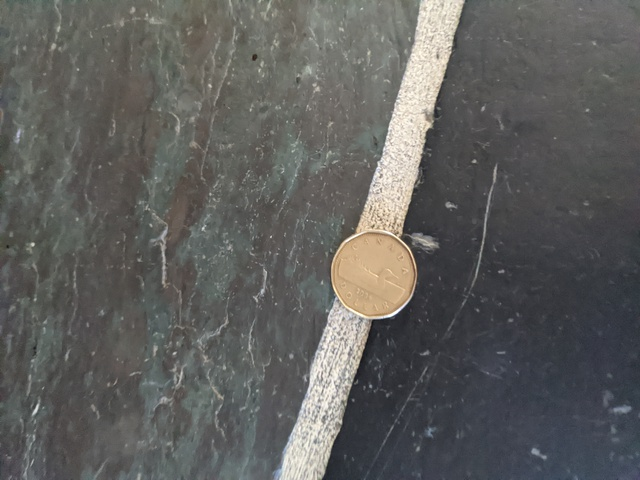loonie: (326, 228, 426, 319)
